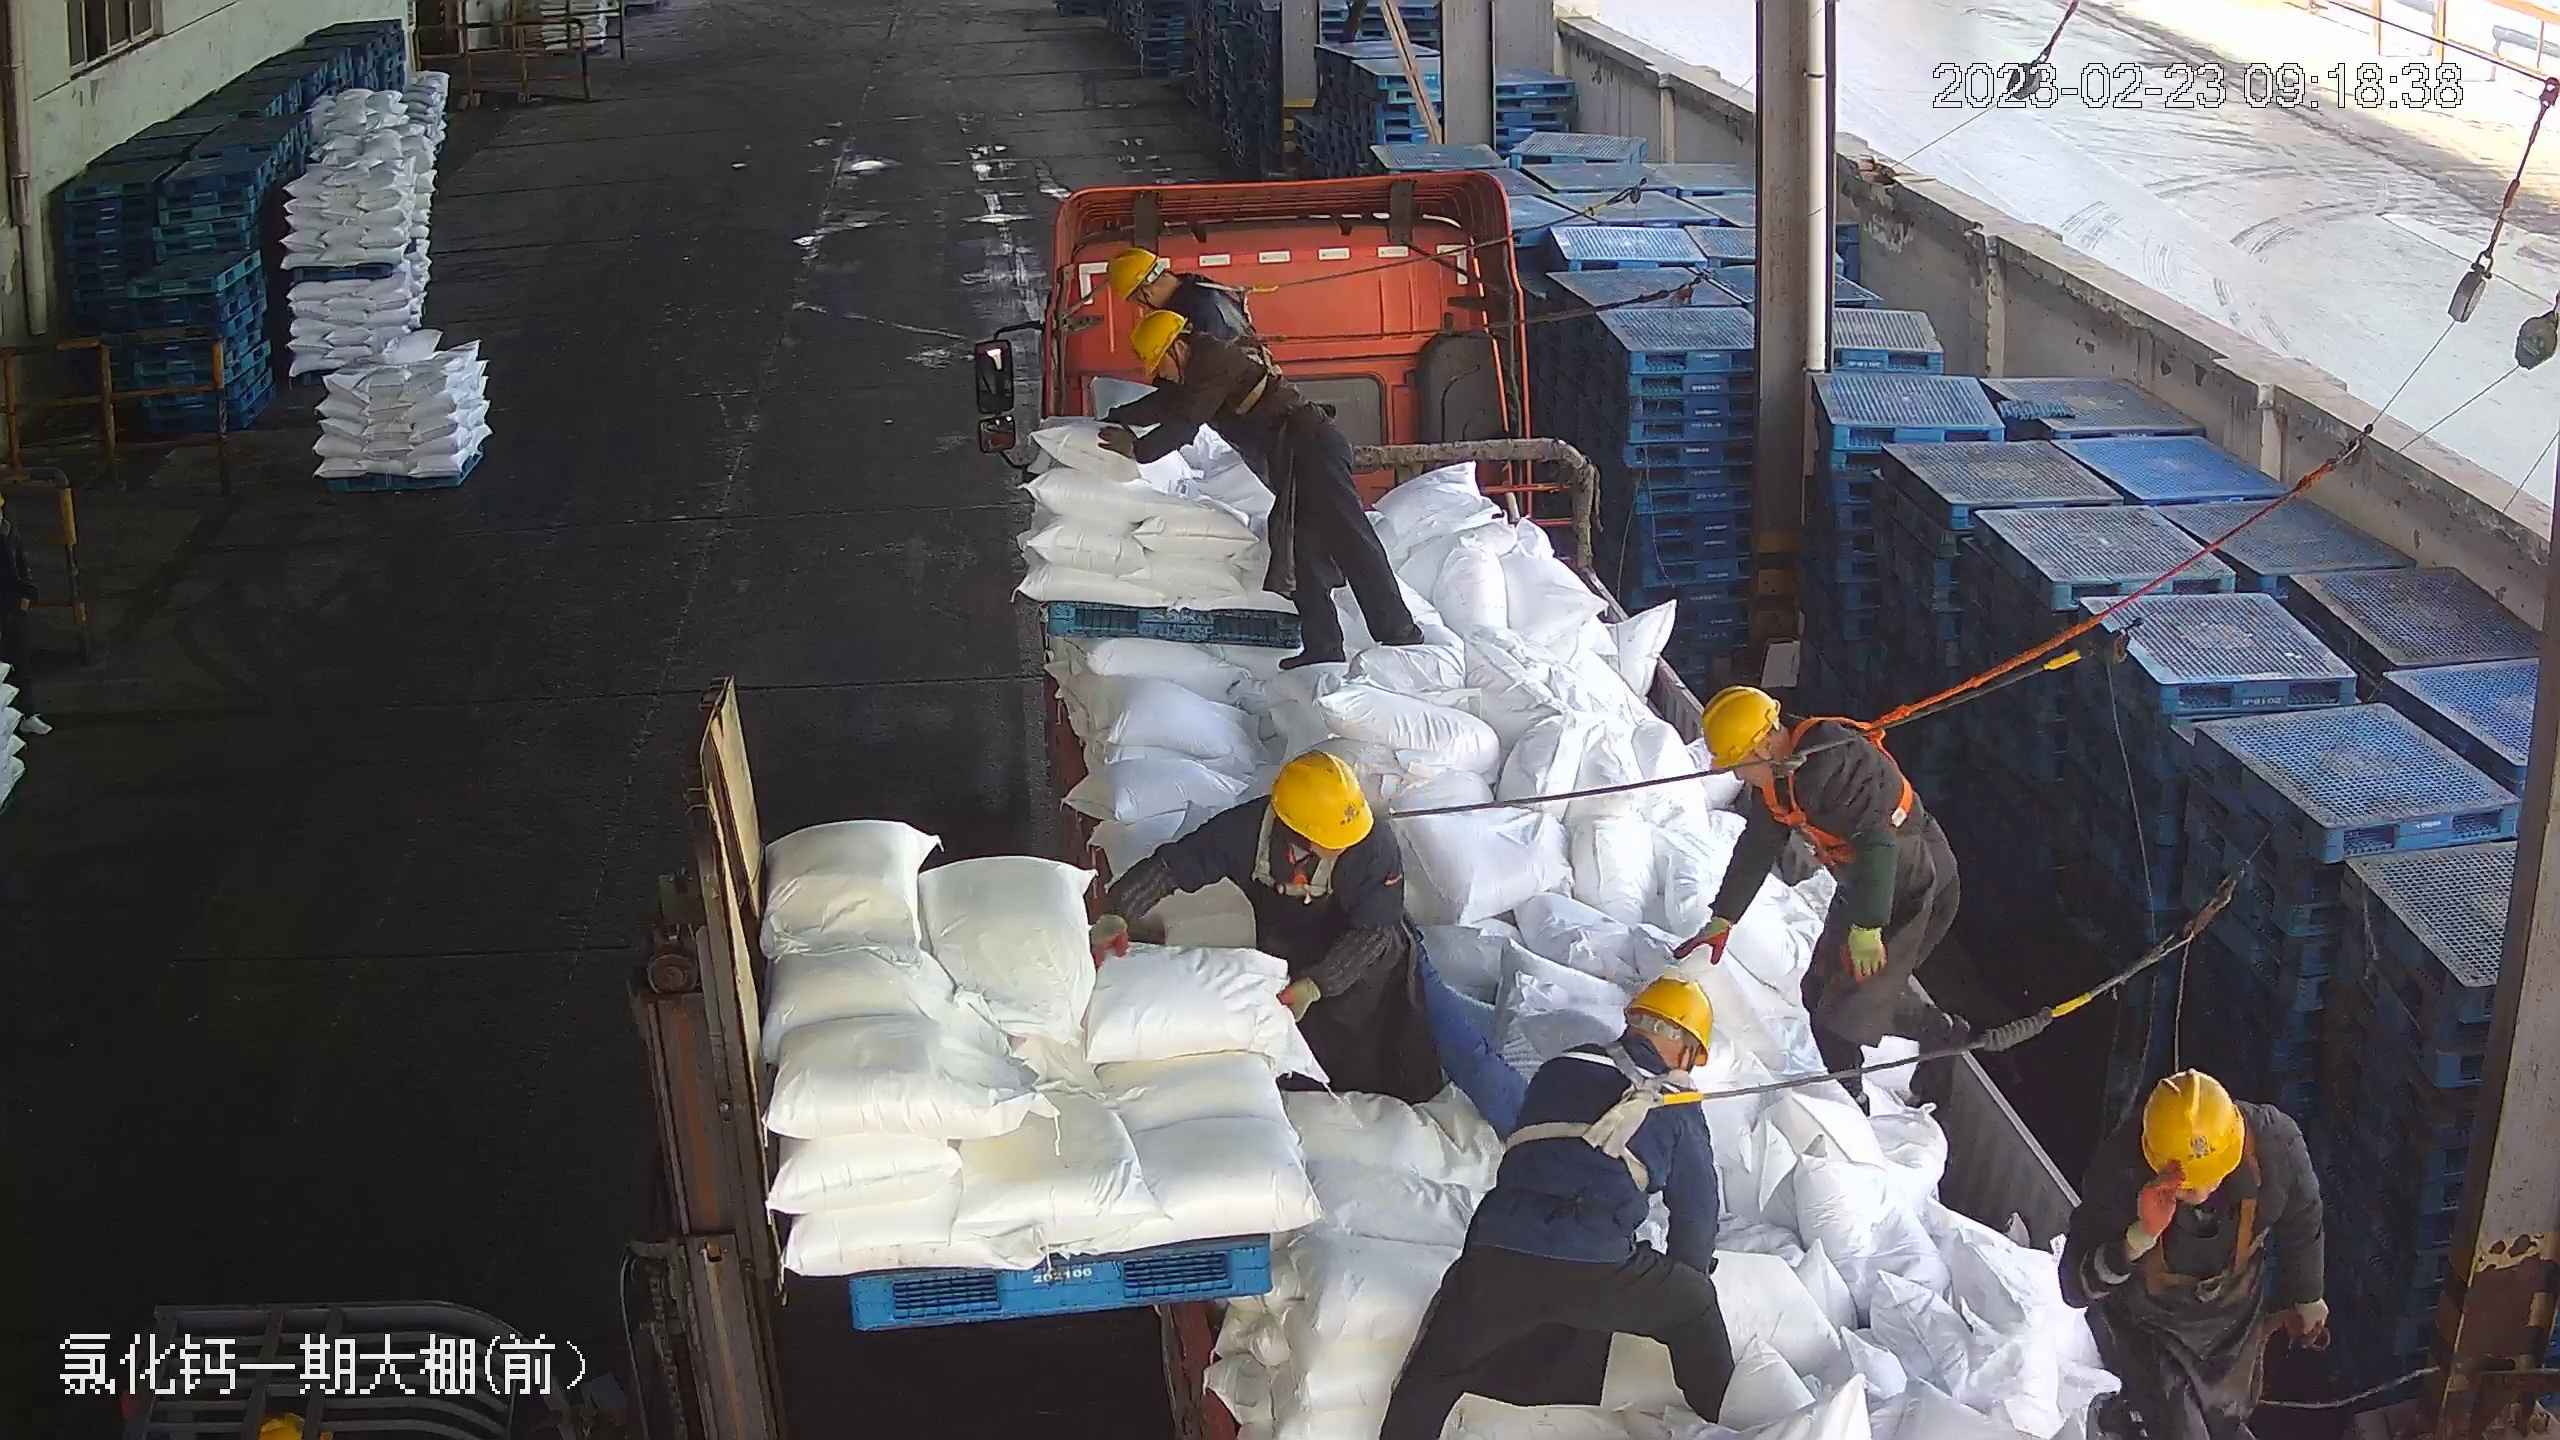belt: (1520, 1037, 1711, 1184), (1757, 711, 1927, 860), (1248, 788, 1413, 898), (2138, 1155, 2259, 1298), (1190, 336, 1299, 419), (1186, 275, 1287, 334)
head: (1531, 975, 1724, 1141), (1208, 753, 1401, 915), (2106, 1063, 2296, 1222), (1696, 684, 1870, 834), (1131, 308, 1253, 403), (1104, 249, 1213, 329)
helmet: (2138, 1065, 2246, 1191), (1268, 747, 1370, 849), (1625, 971, 1717, 1061), (1698, 684, 1780, 775), (1130, 311, 1184, 374), (1103, 246, 1159, 301)
people: (1385, 976, 1745, 1438), (1118, 749, 1484, 1126), (1670, 682, 1954, 1113), (1091, 314, 1415, 673), (2068, 1060, 2321, 1440)
truck: (1000, 160, 2243, 1440)
